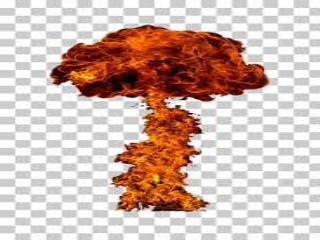smoke: (63, 22, 257, 214)
